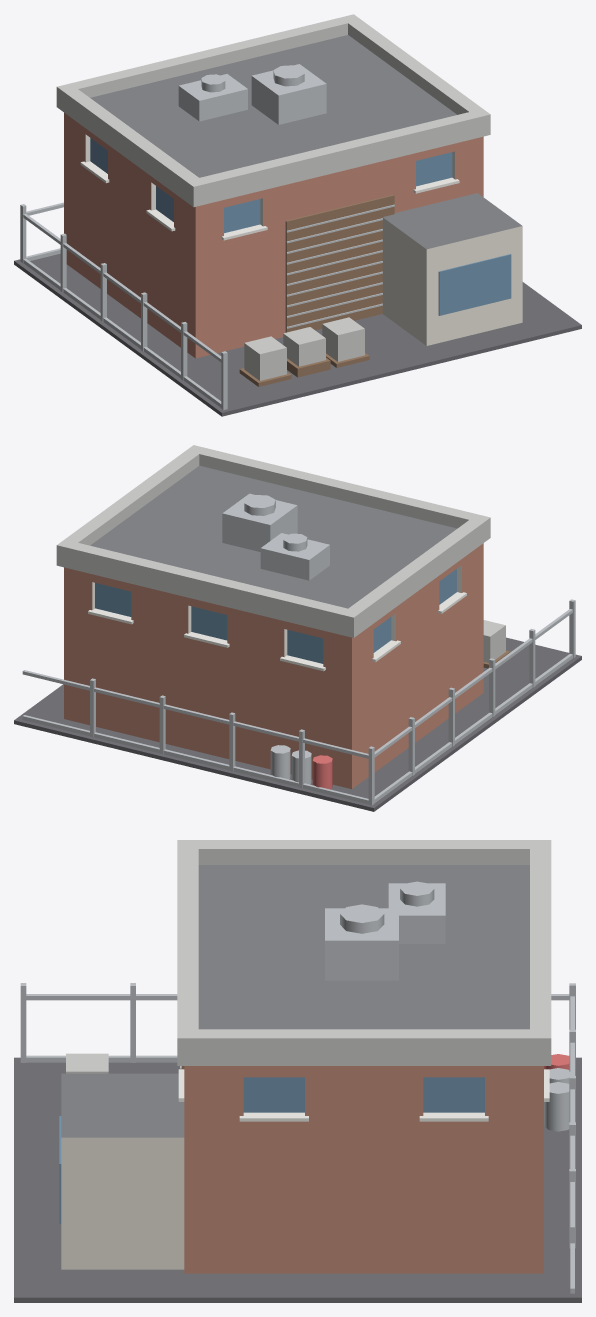
3 renders of one model, top to bottom at view 1: azimuth 30°, elevation 25°; view 2: azimuth 150°, elevation 25°; view 3: azimuth 270°, elevation 25°, orthographic. The views are drawn at different scales.
Visible parts, largest first — view 1: i_1_1_c; view 2: i_1_1_c; view 3: i_1_1_c.
Boxes of the visible parts, x1,y1,x2,y2 form: i_1_1_c: (14, 14, 581, 416); i_1_1_c: (14, 445, 581, 811); i_1_1_c: (14, 840, 581, 1302).
Bounding box in the file's own units: 12 × 6.5 × 12.
